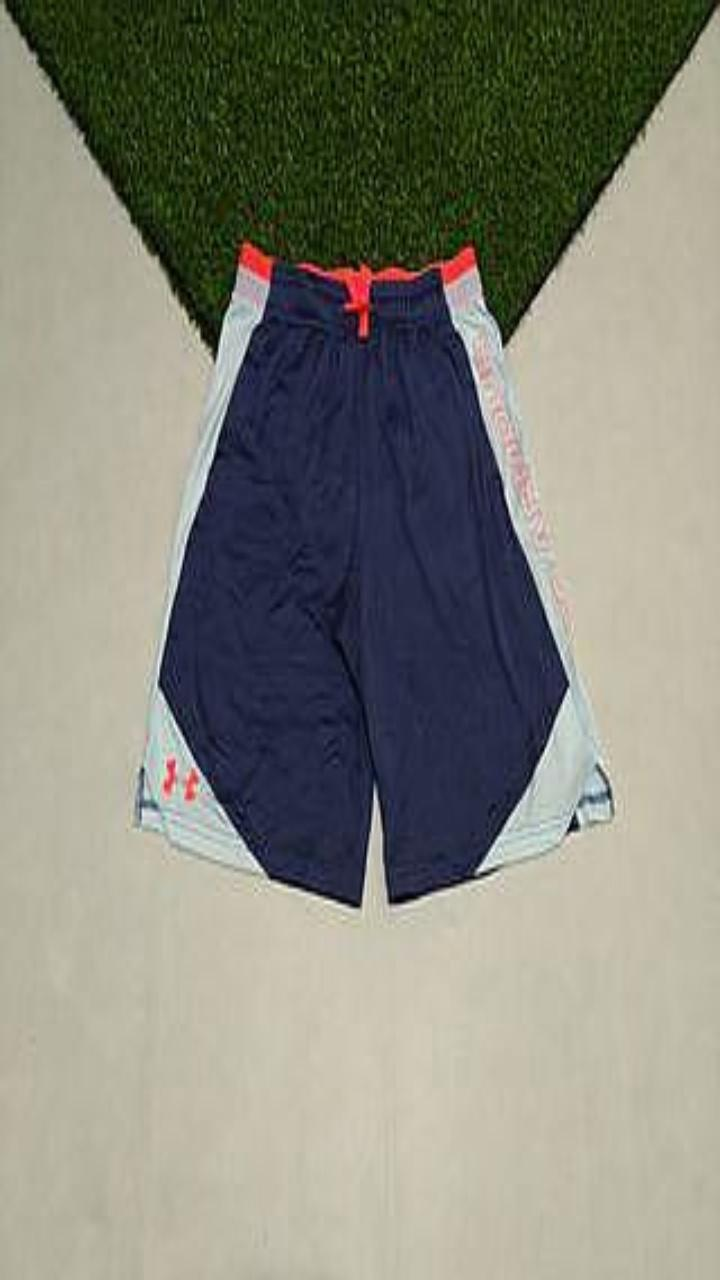Shorts: (135, 241, 613, 905)
